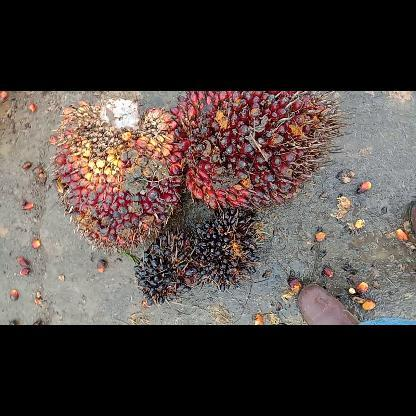TBS abnormal: (190, 207, 266, 294), (132, 228, 196, 307)
TBS masak: (168, 90, 350, 212), (50, 95, 186, 253)
